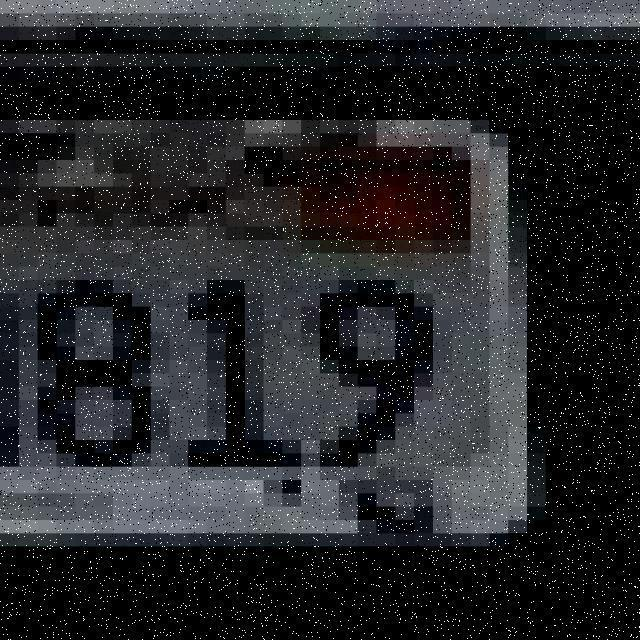LicensePlate: (11, 130, 567, 574)
